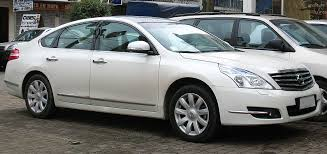Nissan: (19, 21, 301, 130)
